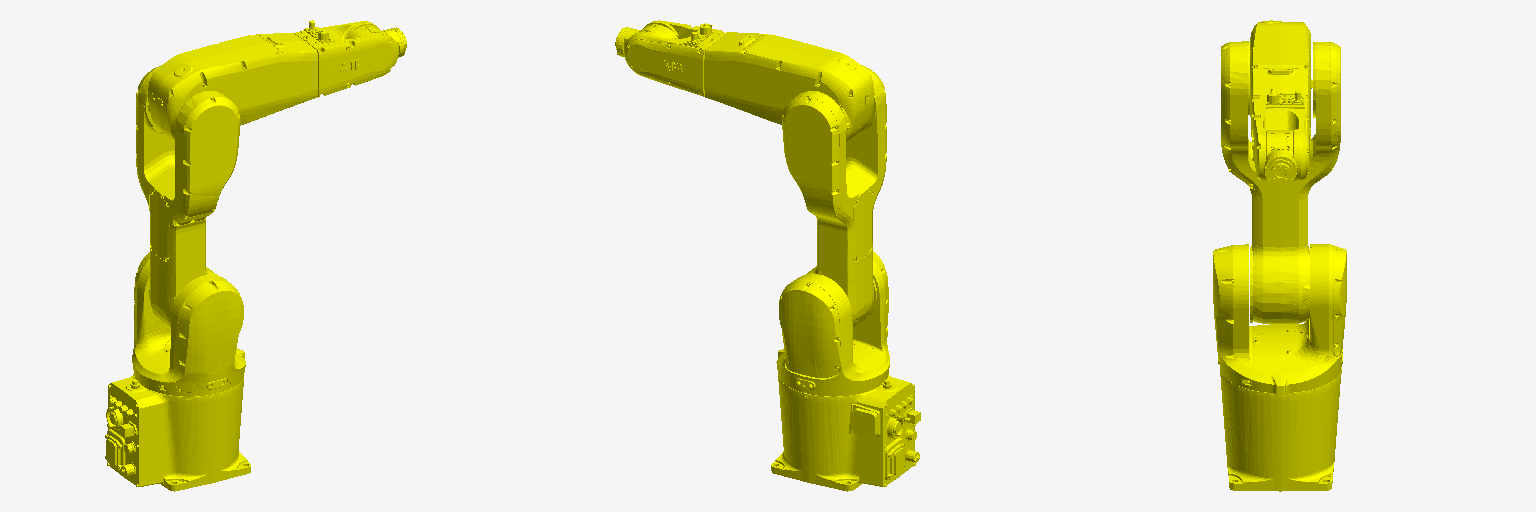
The robot description file, URDF, robot "abb_irb1200_5_90":
<?xml version="1.0" ?>
<!-- =================================================================================== -->
<!-- |    This document was autogenerated by xacro from irb1200_5_90.xacro             | -->
<!-- |    EDITING THIS FILE BY HAND IS NOT RECOMMENDED                                 | -->
<!-- =================================================================================== -->
<robot name="abb_irb1200_5_90">
  <!-- Conversion were obtained from http://www.e-paint.co.uk/Lab_values.asp
       unless otherwise stated. -->
  <!-- link list -->
  <link name="base_link">
    <!-- See note 1 in package.xml about the inertial and mass values -->
    <inertial>
      <mass value="13.7742"/>
      <origin xyz="-0.028986 0.000596 0.11273"/>
      <inertia ixx="0.101998" ixy="0.000495482" ixz="0.000311158" iyy="0.13969" iyz="-0.000245375" izz="0.130433"/>
    </inertial>
    <collision name="collision">
      <geometry>
        <mesh filename="package://tesseract_support/meshes/irb1200_5_90/collision/base_link.stl"/>
      </geometry>
    </collision>
    <visual name="visual">
      <geometry>
        <mesh filename="package://tesseract_support/meshes/irb1200_5_90/visual/base_link.dae"/>
      </geometry>
      <material name="">
        <color rgba="1 1 0 1"/>
      </material>
    </visual>
  </link>
  <link name="link_1">
    <!-- See note 1 in package.xml about the inertial and mass values -->
    <inertial>
      <mass value="11.8419"/>
      <origin xyz="0.000877 -0.000631 -0.062883"/>
      <inertia ixx="0.11194" ixy="-4.54988e-05" ixz="0.000280961" iyy="0.0915159" iyz="-0.000109905" izz="0.0876456"/>
    </inertial>
    <collision name="collision">
      <geometry>
        <mesh filename="package://tesseract_support/meshes/irb1200_5_90/collision/link_1.stl"/>
      </geometry>
    </collision>
    <visual name="visual">
      <geometry>
        <mesh filename="package://tesseract_support/meshes/irb1200_5_90/visual/link_1.dae"/>
      </geometry>
      <material name="">
        <color rgba="1 1 0 1"/>
      </material>
    </visual>
  </link>
  <link name="link_2">
    <!-- See note 1 in package.xml about the inertial and mass values -->
    <inertial>
      <mass value="17.5394"/>
      <origin xyz="-0.000928 -0.000497 0.250051"/>
      <inertia ixx="0.493558" ixy="1.32136e-05" ixz="0.000209024" iyy="0.462939" iyz="-0.00179901" izz="0.0894214"/>
    </inertial>
    <collision name="collision">
      <geometry>
        <mesh filename="package://tesseract_support/meshes/irb1200_5_90/collision/link_2.stl"/>
      </geometry>
    </collision>
    <visual name="visual">
      <geometry>
        <mesh filename="package://tesseract_support/meshes/irb1200_5_90/visual/link_2.dae"/>
      </geometry>
      <material name="">
        <color rgba="1 1 0 1"/>
      </material>
    </visual>
  </link>
  <link name="link_3">
    <!-- See note 1 in package.xml about the inertial and mass values -->
    <inertial>
      <mass value="7.46365"/>
      <origin xyz="0.099588 0.001143 0.032333"/>
      <inertia ixx="0.0252424" ixy="0.000142737" ixz="-0.00565542" iyy="0.0906438" iyz="0.000142213" izz="0.0825079"/>
    </inertial>
    <collision name="collision">
      <geometry>
        <mesh filename="package://tesseract_support/meshes/irb1200_5_90/collision/link_3.stl"/>
      </geometry>
    </collision>
    <visual name="visual">
      <geometry>
        <mesh filename="package://tesseract_support/meshes/irb1200_5_90/visual/link_3.dae"/>
      </geometry>
      <material name="">
        <color rgba="1 1 0 1"/>
      </material>
    </visual>
  </link>
  <link name="link_4">
    <!-- See note 1 in package.xml about the inertial and mass values -->
    <inertial>
      <mass value="2.74436"/>
      <origin xyz="0.381678 0.001261 0.005168"/>
      <inertia ixx="0.00573099" ixy="-0.000131119" ixz="0.000380232" iyy="0.0118352" iyz="-2.26565e-05" izz="0.0114428"/>
    </inertial>
    <collision name="collision">
      <geometry>
        <mesh filename="package://tesseract_support/meshes/irb1200_5_90/collision/link_4.stl"/>
      </geometry>
    </collision>
    <visual name="visual">
      <geometry>
        <mesh filename="package://tesseract_support/meshes/irb1200_5_90/visual/link_4.dae"/>
      </geometry>
      <material name="">
        <color rgba="1 1 0 1"/>
      </material>
    </visual>
  </link>
  <link name="link_5">
    <!-- See note 1 in package.xml about the inertial and mass values -->
    <inertial>
      <mass value="0.62953"/>
      <origin xyz="0.011197 -0.001056 0.000109"/>
      <inertia ixx="0.000502815" ixy="-1.03173e-05" ixz="-8.74347e-08" iyy="0.00108856" iyz="2.07657e-07" izz="0.000918873"/>
    </inertial>
    <collision name="collision">
      <geometry>
        <mesh filename="package://tesseract_support/meshes/irb1200_5_90/collision/link_5.stl"/>
      </geometry>
    </collision>
    <visual name="visual">
      <geometry>
        <mesh filename="package://tesseract_support/meshes/irb1200_5_90/visual/link_5.dae"/>
      </geometry>
      <material name="">
        <color rgba="1 1 0 1"/>
      </material>
    </visual>
  </link>
  <link name="link_6">
    <!-- See note 1 in package.xml about the inertial and mass values -->
    <inertial>
      <mass value="0.137"/>
      <origin rpy="0 0 0" xyz="-0.00706 -0.00017 -1.32E-06"/>
      <inertia ixx="0.001" ixy="0" ixz="0" iyy="0.001" iyz="0" izz="0.001"/>
    </inertial>
    <!-- Meshlab calculated values (below) make gazebo crash when rotating this joint. -->
    <!-- <inertial>
        <mass value="0.00686711"/>
        <origin xyz="-0.00250976 -1.89e-06 0.00010218"/>
        <inertia ixx="1.3517e-06" ixy="-1.21316e-11" ixz="9.18065e-12" iyy="6.89813e-07" iyz="-1.21534e-10" izz="6.90097e-07"/>
      </inertial> -->
    <collision name="collision">
      <geometry>
        <mesh filename="package://tesseract_support/meshes/irb1200_5_90/collision/link_6.stl"/>
      </geometry>
    </collision>
    <visual name="visual">
      <geometry>
        <mesh filename="package://tesseract_support/meshes/irb1200_5_90/visual/link_6.dae"/>
      </geometry>
      <material name="">
        <color rgba="1 1 0 1"/>
      </material>
    </visual>
  </link>
  <!-- end of link list -->
  <!-- joint list -->
  <joint name="joint_1" type="revolute">
    <origin rpy="0 0 0" xyz="0 0 0.3991"/>
    <axis xyz="0 0 1"/>
    <parent link="base_link"/>
    <child link="link_1"/>
    <!-- See note 2 in package.xml about effort limits and dynamics values -->
    <limit effort="1000" lower="-2.967" upper="2.967" velocity="5.027"/>
    <dynamics damping="50.0" friction="1.0"/>
  </joint>
  <joint name="joint_2" type="revolute">
    <origin rpy="0 0 0" xyz="0 0 0"/>
    <axis xyz="0 1 0"/>
    <parent link="link_1"/>
    <child link="link_2"/>
    <!-- See note 2 in package.xml about effort limits and dynamics values -->
    <limit effort="1000" lower="-1.745" upper="2.269" velocity="4.189"/>
    <dynamics damping="50.0" friction="1.0"/>
  </joint>
  <joint name="joint_3" type="revolute">
    <origin rpy="0 0 0" xyz="0 0 0.448"/>
    <axis xyz="0 1 0"/>
    <parent link="link_2"/>
    <child link="link_3"/>
    <!-- See note 2 in package.xml about effort limits and dynamics values -->
    <limit effort="1000" lower="-3.491" upper="1.222" velocity="5.236"/>
    <dynamics damping="10.0" friction="1.0"/>
  </joint>
  <joint name="joint_4" type="revolute">
    <origin rpy="0 0 0" xyz="0 0 0.042"/>
    <axis xyz="1 0 0"/>
    <parent link="link_3"/>
    <child link="link_4"/>
    <!-- See note 2 in package.xml about effort limits and dynamics values -->
    <limit effort="1000" lower="-4.712" upper="4.712" velocity="6.981"/>
    <dynamics damping="5.0" friction="1.0"/>
  </joint>
  <joint name="joint_5" type="revolute">
    <origin rpy="0 0 0" xyz="0.451 0 0"/>
    <axis xyz="0 1 0"/>
    <parent link="link_4"/>
    <child link="link_5"/>
    <!-- See note 2 in package.xml about effort limits and dynamics values -->
    <limit effort="1000" lower="-2.269" upper="2.269" velocity="7.069"/>
    <dynamics damping="2.0" friction="1.0"/>
  </joint>
  <joint name="joint_6" type="revolute">
    <origin rpy="0 0 0" xyz="0.082 0 0"/>
    <axis xyz="1 0 0"/>
    <parent link="link_5"/>
    <child link="link_6"/>
    <!-- See note 2 in package.xml about effort limits and dynamics values -->
    <limit effort="1000" lower="-6.283" upper="6.283" velocity="10.472"/>
    <dynamics damping="1.0" friction="1.0"/>
  </joint>
  <!-- end of joint list -->
  <!-- ROS-Industrial 'base' frame: base_link to ABB World Coordinates transform -->
  <link name="base"/>
  <joint name="base_link-base" type="fixed">
    <origin rpy="0 0 0" xyz="0 0 0"/>
    <parent link="base_link"/>
    <child link="base"/>
  </joint>
  <!-- ROS-Industrial 'flange' frame: attachment point for EEF models -->
  <link name="flange"/>
  <joint name="joint_6-flange" type="fixed">
    <origin rpy="0 0 0" xyz="0 0 0"/>
    <parent link="link_6"/>
    <child link="flange"/>
  </joint>
  <!-- ROS-Industrial 'tool0' frame: all-zeros tool frame -->
  <link name="tool0"/>
  <joint name="link_6-tool0" type="fixed">
    <origin rpy="0 1.5707963267948966 0" xyz="0 0 0"/>
    <parent link="flange"/>
    <child link="tool0"/>
  </joint>
</robot>

--- Render facts (derived) ---
3 views of the same robot in one strip: view 1: azimuth 30°, elevation 25°; view 2: azimuth 150°, elevation 25°; view 3: azimuth 270°, elevation 25° (orthographic).
Robot: abb_irb1200_5_90 — 10 links, 9 joints (6 revolute, 3 fixed); root link base_link; default pose: every joint at zero.
Visible links, largest first — view 1: link_2, base_link, link_1, link_3, link_4, link_5; view 2: link_2, base_link, link_1, link_3, link_4, link_5; view 3: link_2, link_1, base_link, link_3, link_4, link_5.
Link boxes in pixels (x1=…): link_2: x1=136, y1=65, x2=240, y2=328; base_link: x1=105, y1=374, x2=250, y2=491; link_1: x1=132, y1=252, x2=245, y2=396; link_3: x1=148, y1=33, x2=317, y2=140; link_4: x1=294, y1=20, x2=398, y2=97; link_5: x1=346, y1=25, x2=406, y2=57; link_2: x1=782, y1=65, x2=886, y2=327; base_link: x1=771, y1=374, x2=920, y2=491; link_1: x1=776, y1=251, x2=889, y2=396; link_3: x1=704, y1=32, x2=874, y2=141; link_4: x1=624, y1=20, x2=728, y2=96; link_5: x1=616, y1=24, x2=677, y2=56; link_2: x1=1221, y1=41, x2=1340, y2=323; link_1: x1=1213, y1=244, x2=1346, y2=396; base_link: x1=1220, y1=367, x2=1341, y2=491; link_3: x1=1250, y1=20, x2=1312, y2=136; link_4: x1=1252, y1=89, x2=1310, y2=180; link_5: x1=1264, y1=130, x2=1296, y2=186.
Bounding box of the posed robot: 0.7257 × 0.2636 × 0.9731 m (x, y, z).
Meshes: 7 distinct files referenced, 7 mesh visuals loaded (7 Collada DAE).